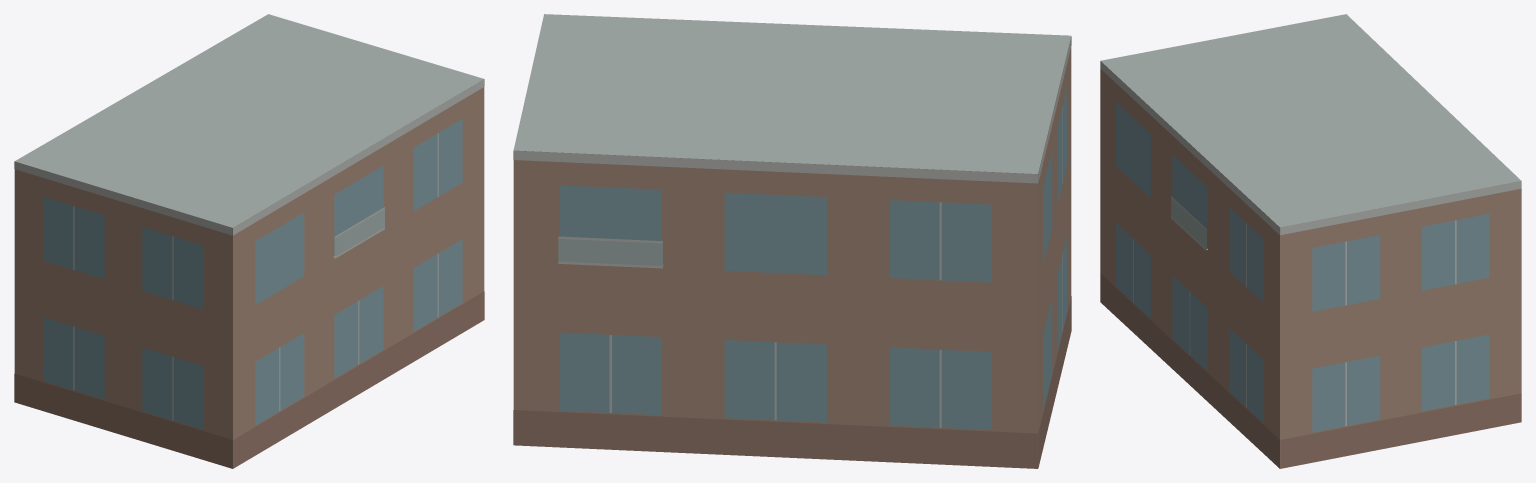
The model's file is survey-upis-32640841.glb.
3 renders of one model, left to right at view 1: azimuth 30°, elevation 25°; view 2: azimuth 150°, elevation 25°; view 3: azimuth 270°, elevation 25°, orthographic. The views are drawn at different scales.
Parts seen in each view (by area): view 1: survey-upis-32640841.tmp; view 2: survey-upis-32640841.tmp; view 3: survey-upis-32640841.tmp.
Part boxes in pixels (bbox=[...]): survey-upis-32640841.tmp: bbox=[14, 14, 484, 468]; survey-upis-32640841.tmp: bbox=[513, 14, 1071, 468]; survey-upis-32640841.tmp: bbox=[1100, 14, 1521, 468].
Bounding box in the file's own units: 14.43 × 7.6 × 12.03.
